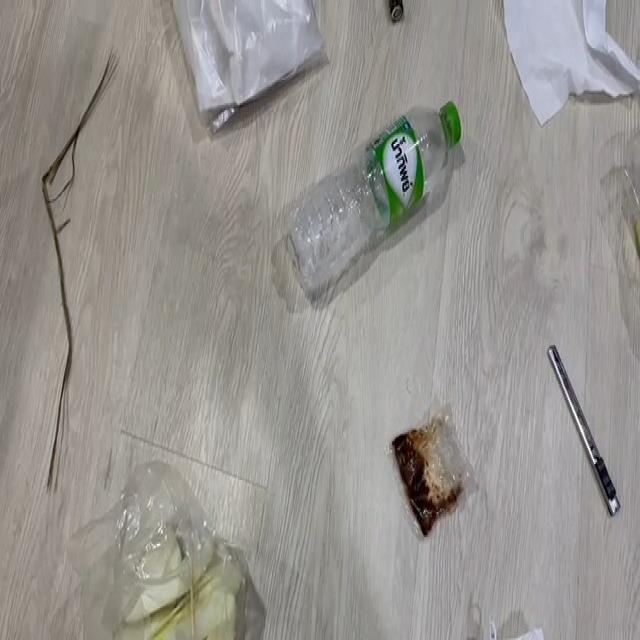Anorganik: (276, 88, 474, 288), (544, 341, 640, 521), (502, 0, 639, 98), (189, 0, 318, 83)
B3: (35, 17, 119, 471), (110, 485, 255, 634), (382, 405, 484, 539), (381, 0, 415, 34)
